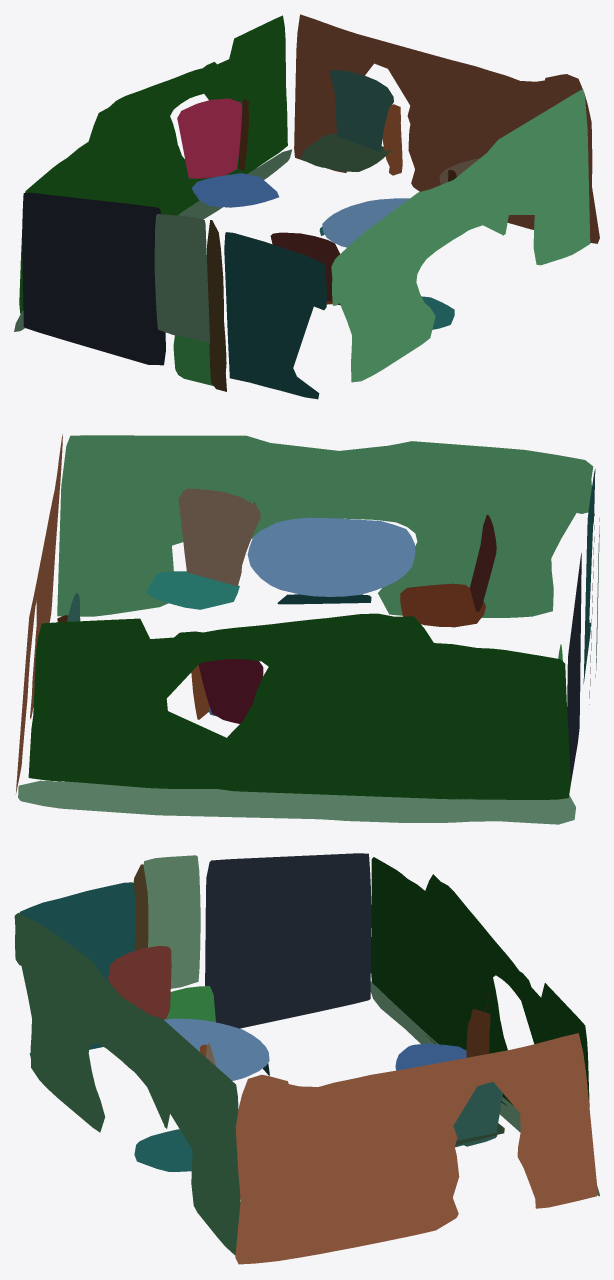
Rendered from Ours-scene0427_00.glb.
3 renders of one model, top to bottom at view 1: azimuth 30°, elevation 25°; view 2: azimuth 150°, elevation 25°; view 3: azimuth 270°, elevation 25°, orthographic. The views are drawn at different scales.
Parts seen in each view (by area): view 1: lean; view 2: lean; view 3: lean.
Part boxes in pixels (<box>): lean: <box>14,14,599,399</box>; lean: <box>15,434,599,824</box>; lean: <box>14,853,599,1264</box>.
Bounding box in the file's own units: 4.19 × 1.41 × 3.8.
